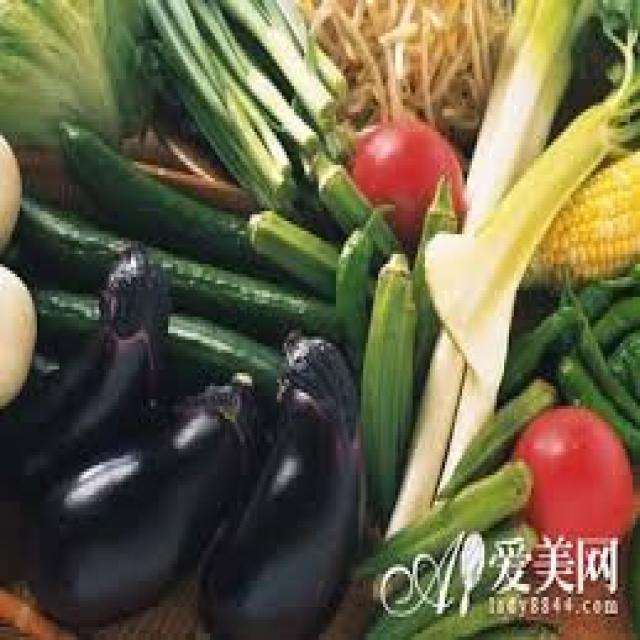organic waste: (420, 20, 638, 376), (25, 366, 257, 624), (0, 244, 166, 581), (12, 185, 344, 346), (195, 326, 358, 636), (12, 254, 282, 402), (54, 109, 274, 277), (124, 0, 294, 208), (299, 0, 512, 122), (188, 0, 321, 165), (509, 396, 630, 574), (346, 455, 531, 571), (361, 521, 534, 637), (516, 145, 638, 297), (380, 320, 464, 534), (0, 0, 133, 135), (432, 373, 561, 495), (222, 0, 344, 122), (348, 119, 464, 247), (360, 247, 412, 528), (554, 277, 638, 419), (408, 168, 454, 402), (433, 353, 499, 508), (309, 148, 398, 258), (551, 343, 638, 455), (334, 198, 391, 356), (242, 208, 339, 290), (497, 304, 583, 392), (408, 577, 521, 637), (0, 260, 35, 402), (0, 580, 74, 636), (568, 274, 638, 317), (606, 327, 638, 402), (588, 294, 638, 339), (448, 617, 558, 637), (0, 132, 17, 254), (628, 508, 638, 637)
